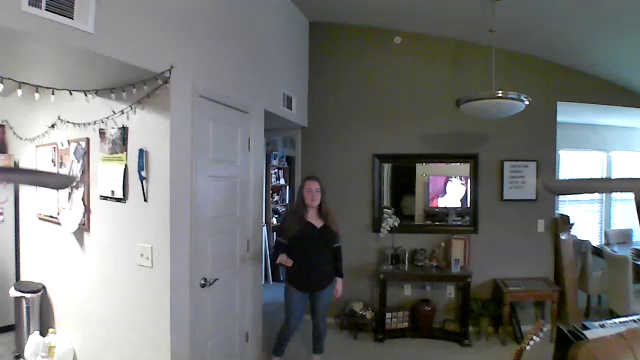land: (273, 254, 296, 271)
